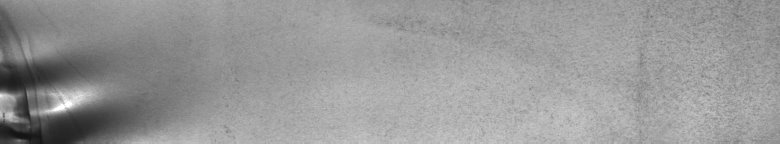ke: (4, 56, 92, 136)
